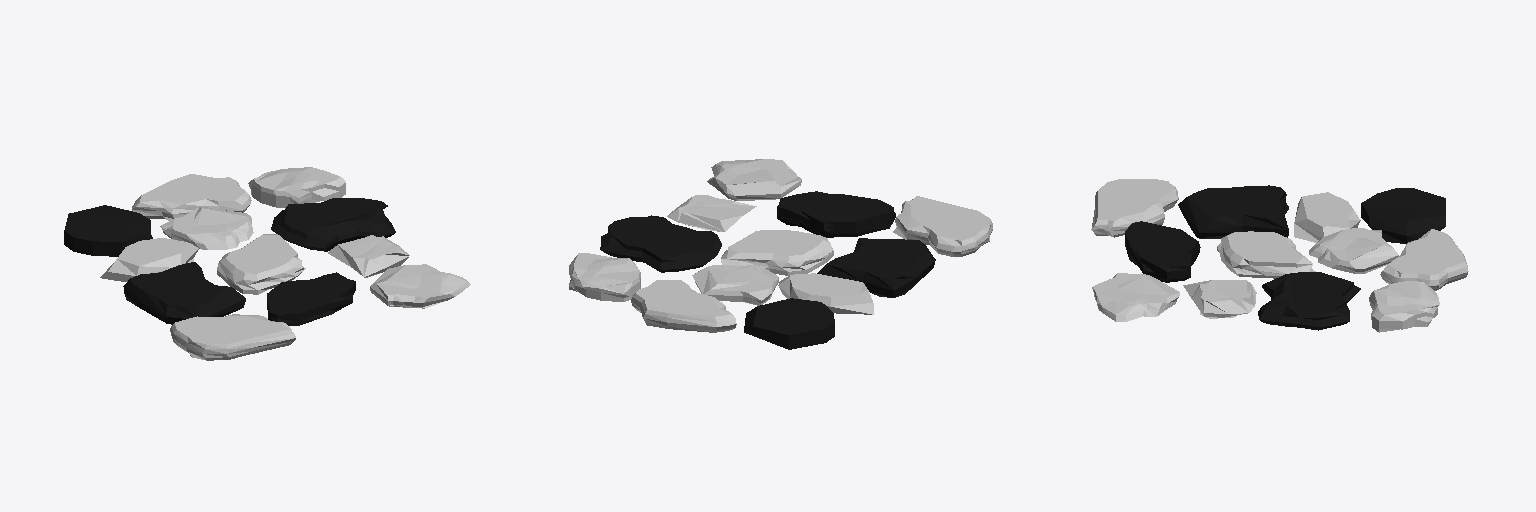
Rendered from uploads_files_2726644_stone_path_low_poly.obj.
3 views of the same model, side by side, from view 1: azimuth 30°, elevation 25°; view 2: azimuth 150°, elevation 25°; view 3: azimuth 270°, elevation 25° (orthographic).
Parts seen in each view (by area): view 1: Cube.008_Cube.010; view 2: Cube.008_Cube.010; view 3: Cube.008_Cube.010.
Boxes of the visible parts, box(x1,y1,x2,y2) form: Cube.008_Cube.010: box(64, 167, 470, 360); Cube.008_Cube.010: box(569, 159, 992, 349); Cube.008_Cube.010: box(1091, 179, 1468, 332).
Bounding box in the file's own units: 1.9 × 0.1356 × 2.13.